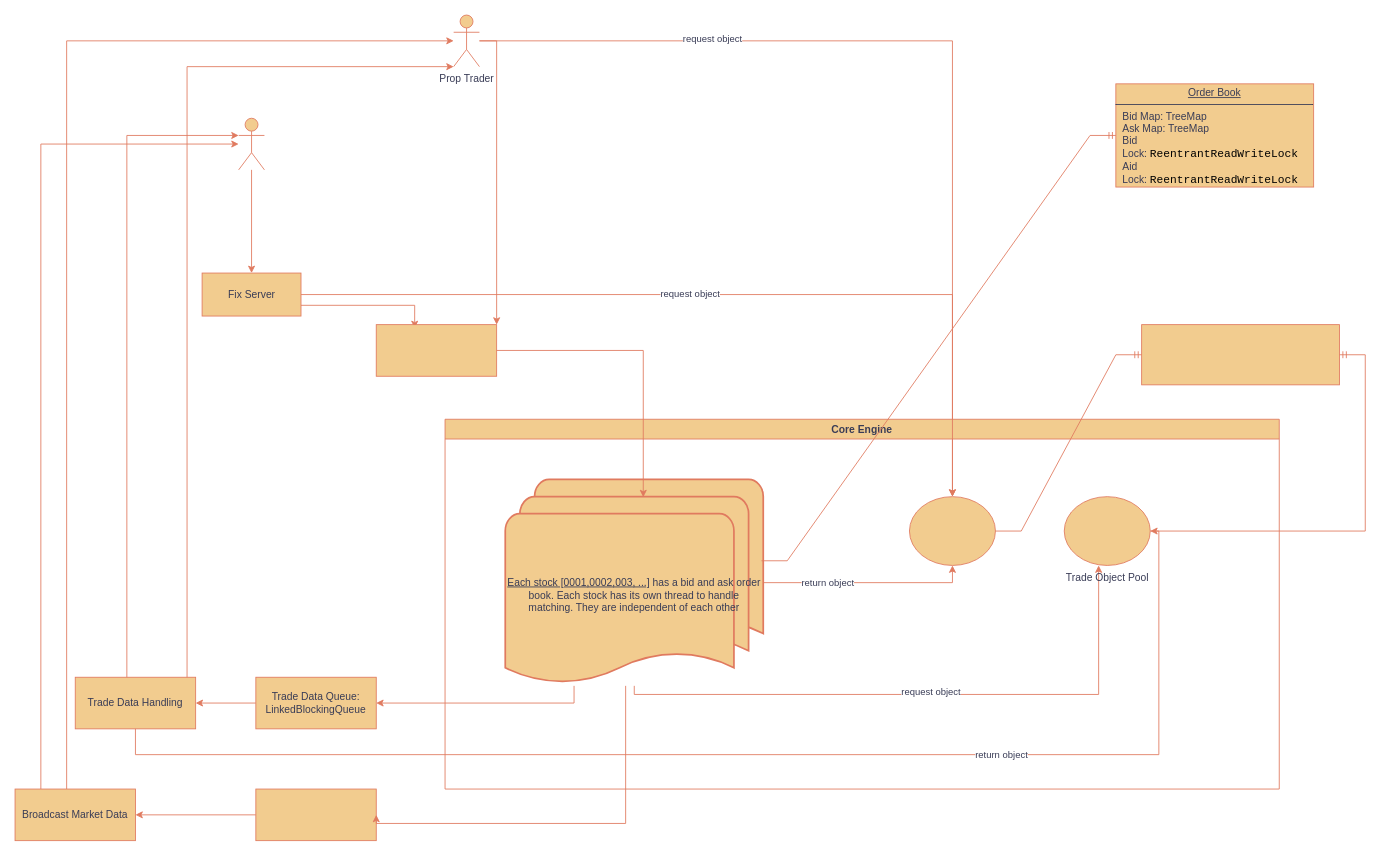
Some shapes in this 1387 by 856 pixel diagram are drawn without their labels. The shapes that lost their labels are listed below. From the top down, each one's centre as x and y in pixels, then its label:
the point at 251,143: FIX Client
the point at 436,350: Order Processing Queue: LinkedBlockingQueue
the point at 1240,354: Object Pool Sequence Generator: AtomicInteger
the point at 952,530: Order Object Pool
the point at 315,814: Market Data Queue: LinkedBlockingQueue
